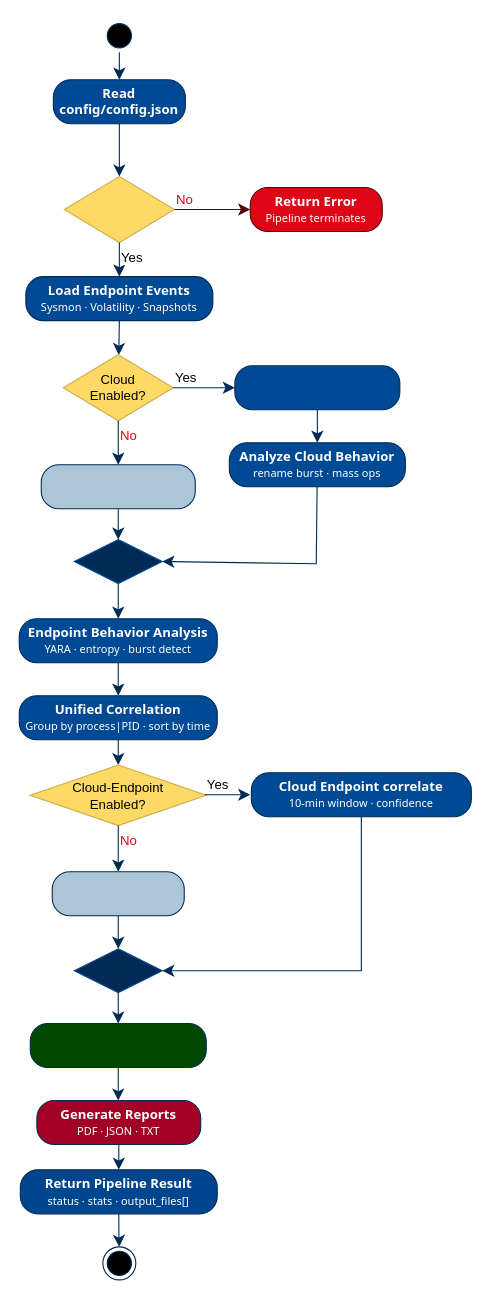
Some shapes in this 491 by 1299 pixel diagram are drawn without their labels. The box of each missing label's shape, as (x1, y1, x2, y2) in pixels:
Build Evidence Manifest SHA-256 hash · audit trail: (29, 1022, 206, 1068)
Collect Cloud Metadata Google Drive + OneDrive: (234, 365, 400, 410)
Config Valid?: (63, 175, 174, 243)
Skip cloud — continue: (40, 464, 195, 509)
Skip — continue: (51, 871, 184, 916)
